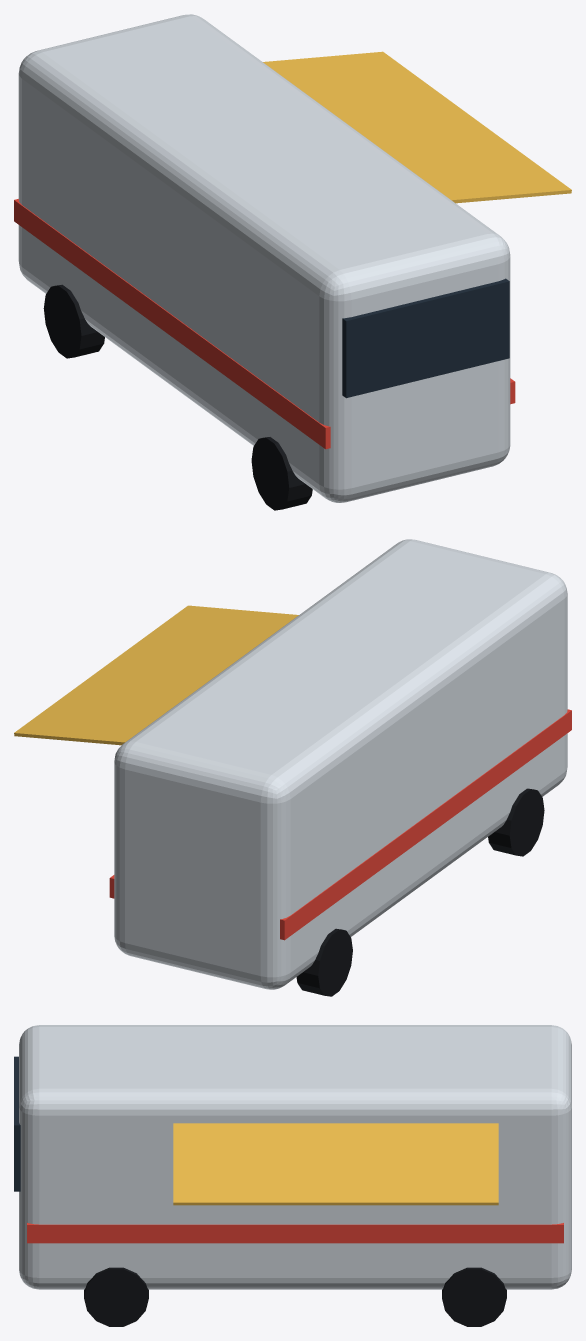
File: campervan_b.glb
3 renders of one model, top to bottom at view 1: azimuth 30°, elevation 25°; view 2: azimuth 150°, elevation 25°; view 3: azimuth 270°, elevation 25°, orthographic. The views are drawn at different scales.
Visible parts, largest first — view 1: camper; view 2: camper; view 3: camper.
Part boxes in pixels (x1,y1,x2,y2): camper: (14,14,571,510); camper: (14,539,571,996); camper: (14,1025,571,1326).
Bounding box in the file's own units: 4.09 × 3.09 × 6.86.
